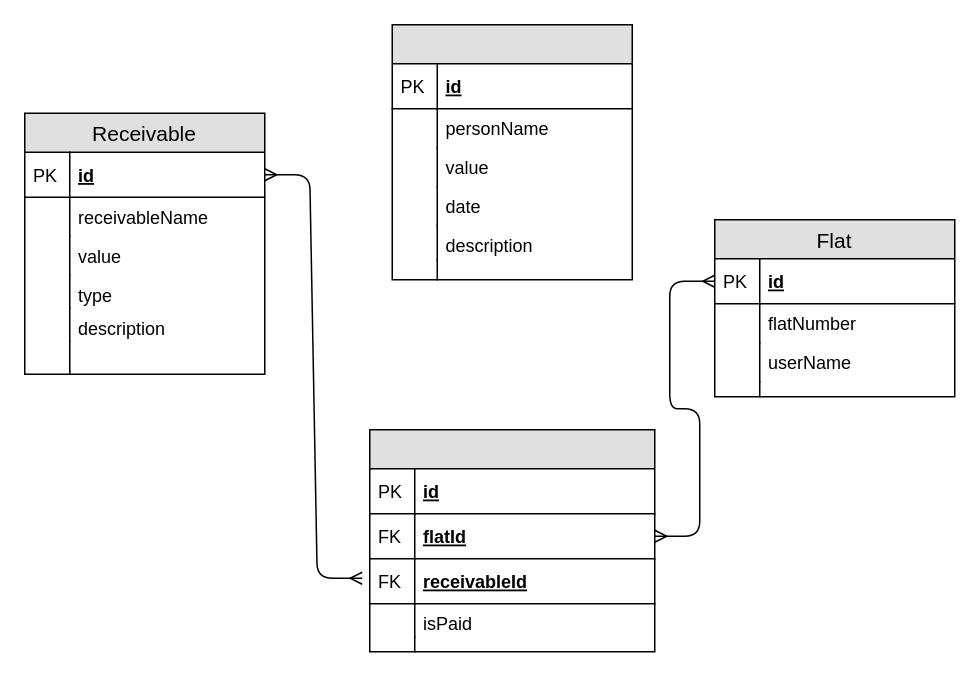
The diagram is 980 pixels wide and 677 high, and some of its shapes have lost their labels. The shapes that lost their labels are listed below. From the top down, each one's box as (x1, y1, x2, y2) in pixels, then its label:
(391, 23, 632, 280): Outgoings
(368, 428, 655, 652): FlatReceivables
